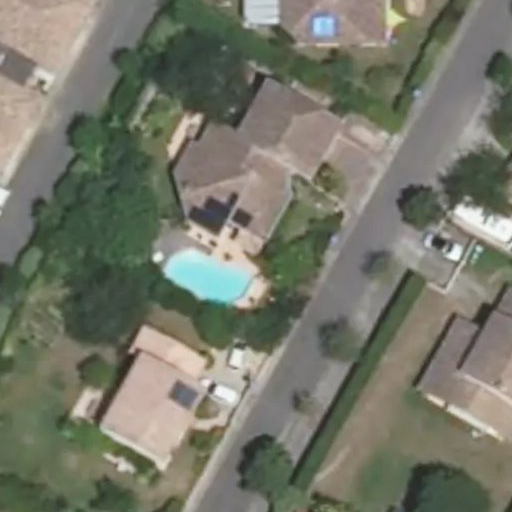pool: (163, 250, 256, 304)
